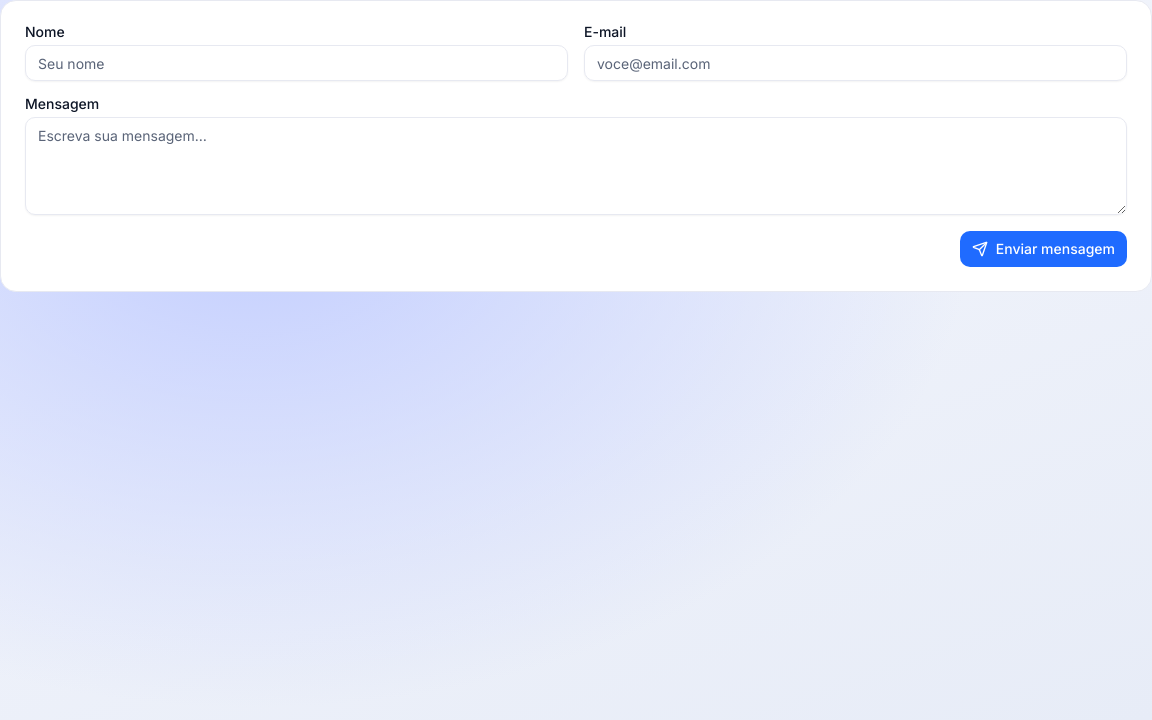
it: ContactForm › valida o formato do e-mail
In the field labelled "Nome": {"x": 296, "y": 63} [25,45,568,81], type "Ana"
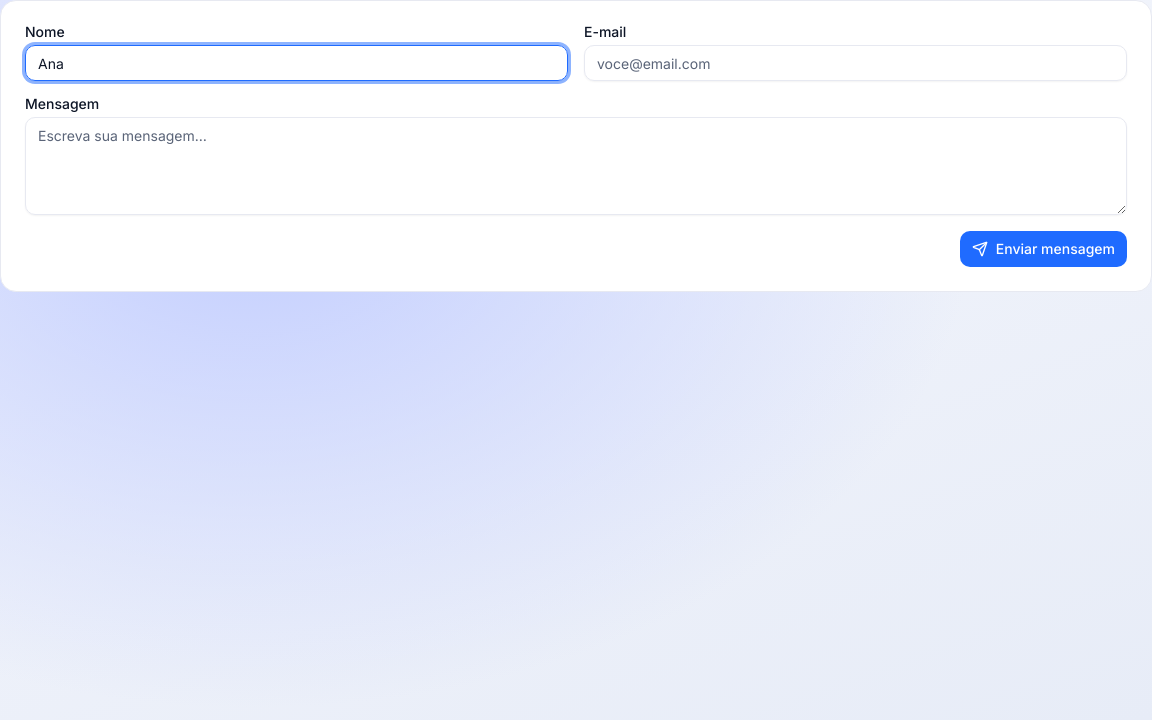
In the text box labelled "Mensagem": {"x": 576, "y": 166} [25,117,1127,215], type "Olá"
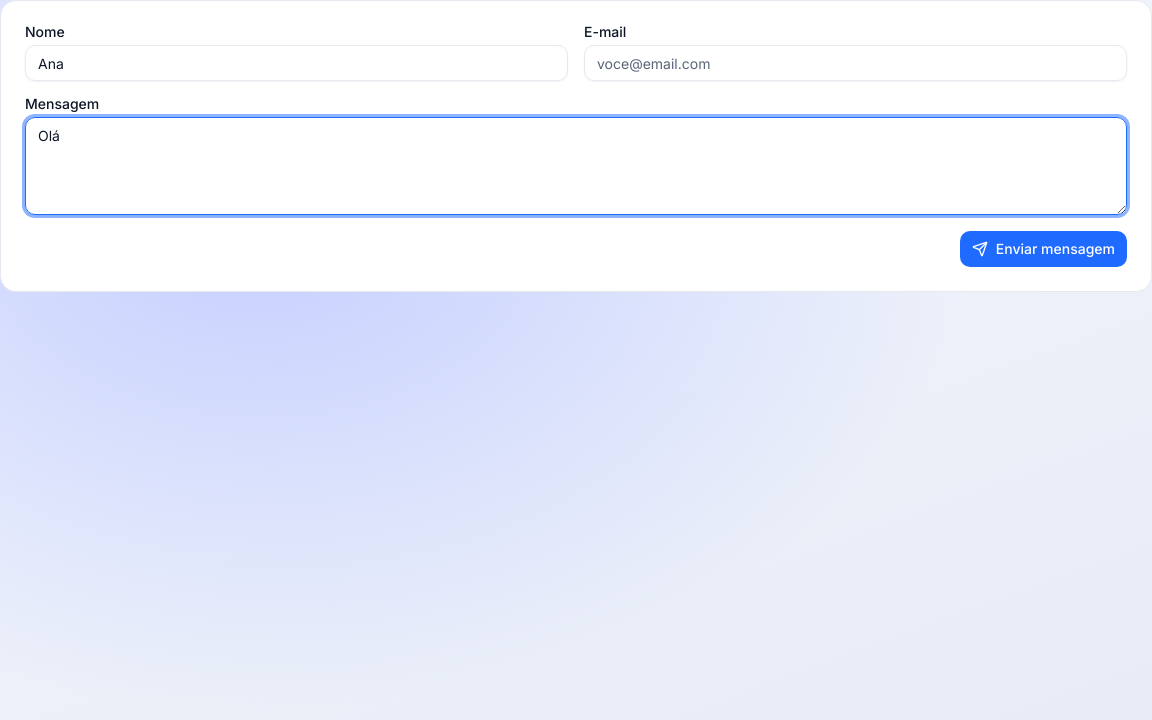
In the field labelled "E-mail": {"x": 856, "y": 63} [584,45,1127,81], type "nope"
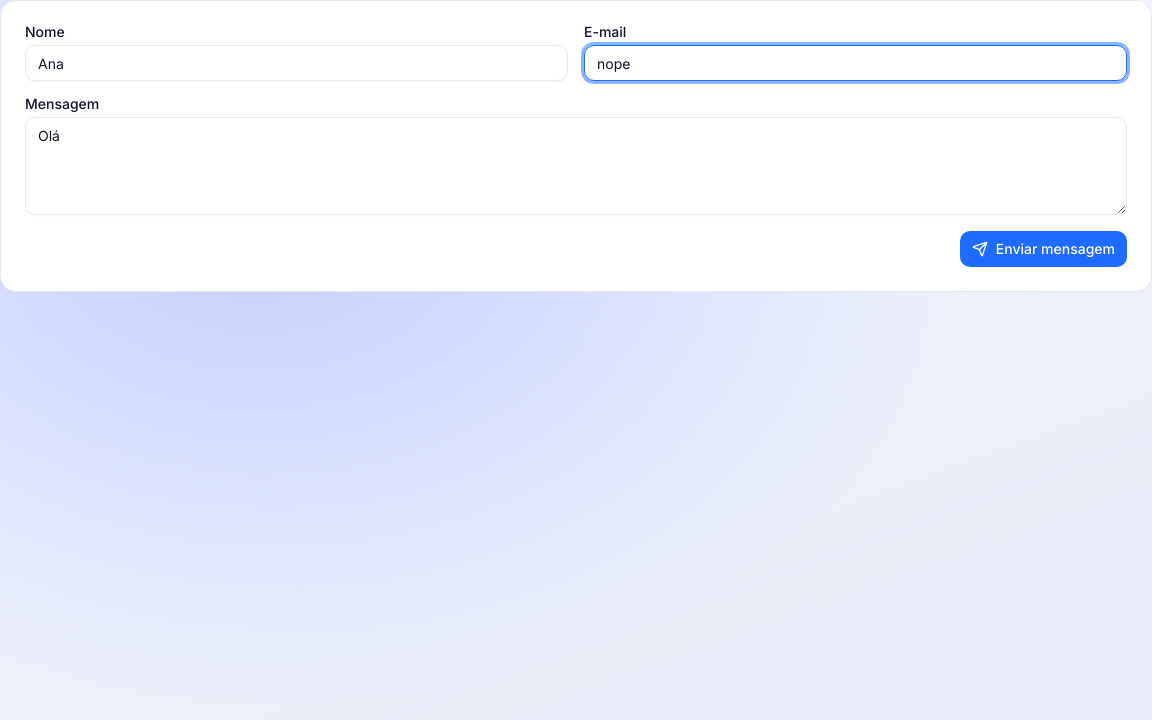
Click the button "Enviar mensagem": {"x": 1043, "y": 249} [960,231,1127,267]
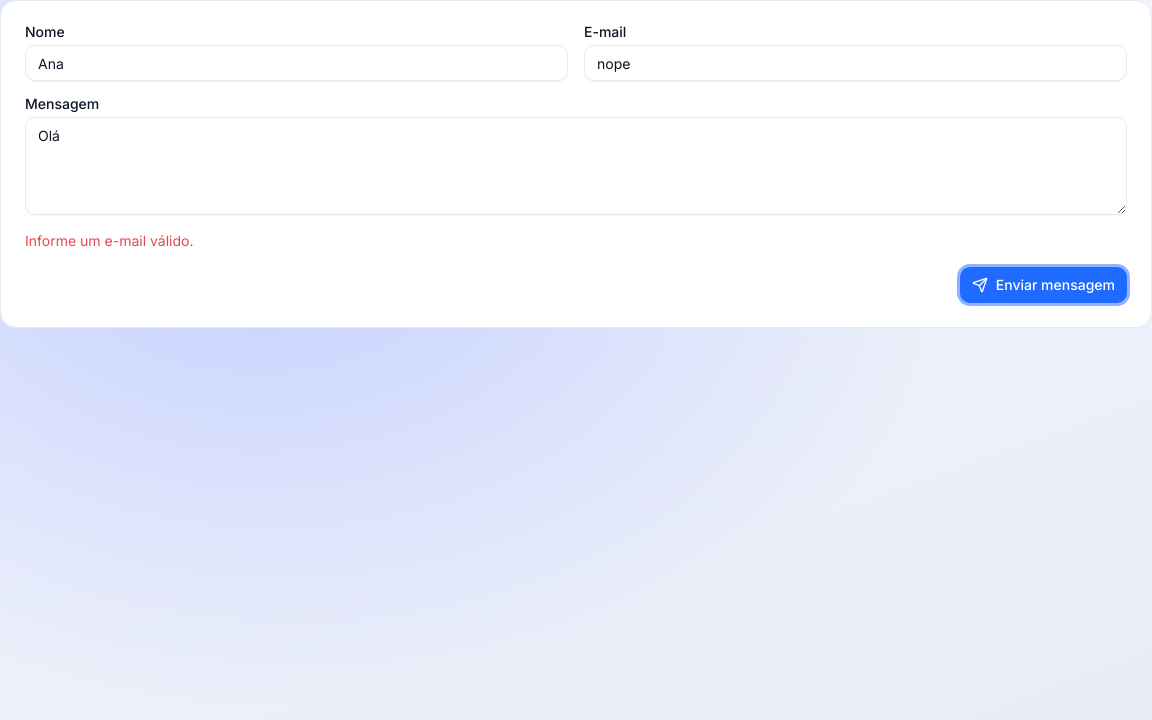
Expected: the text "Informe um e-mail válido." is shown, [25,232,193,249]
